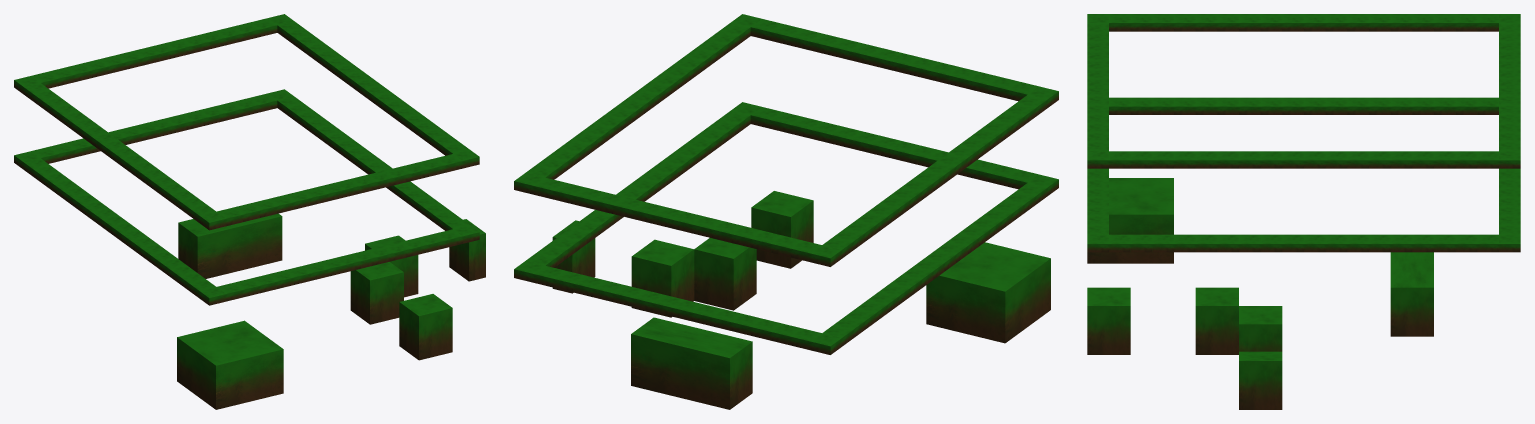
Rendered from Stage_Block_4_3.fbx.
3 views of the same model, side by side, from view 1: azimuth 30°, elevation 25°; view 2: azimuth 150°, elevation 25°; view 3: azimuth 270°, elevation 25° (orthographic). The views are drawn at different scales.
Parts seen in each view (by area): view 1: Stage_Block_4_3_1, Stage_Block_4_3_3, Stage_Block_4_3_2; view 2: Stage_Block_4_3_1, Stage_Block_4_3_3, Stage_Block_4_3_2; view 3: Stage_Block_4_3_3, Stage_Block_4_3_1, Stage_Block_4_3_2.
Boxes of the visible parts, x1,y1,x2,y2 form: Stage_Block_4_3_1: (177,213,485,409); Stage_Block_4_3_3: (14,14,479,230); Stage_Block_4_3_2: (14,89,479,305); Stage_Block_4_3_1: (552,191,1050,409); Stage_Block_4_3_3: (514,14,1058,266); Stage_Block_4_3_2: (514,102,1058,354); Stage_Block_4_3_3: (1087,14,1520,168); Stage_Block_4_3_1: (1087,178,1433,409); Stage_Block_4_3_2: (1087,97,1520,252).
Size of the model in its own units: 4080 by 2134 by 4000.
1 material, 1 textured.
